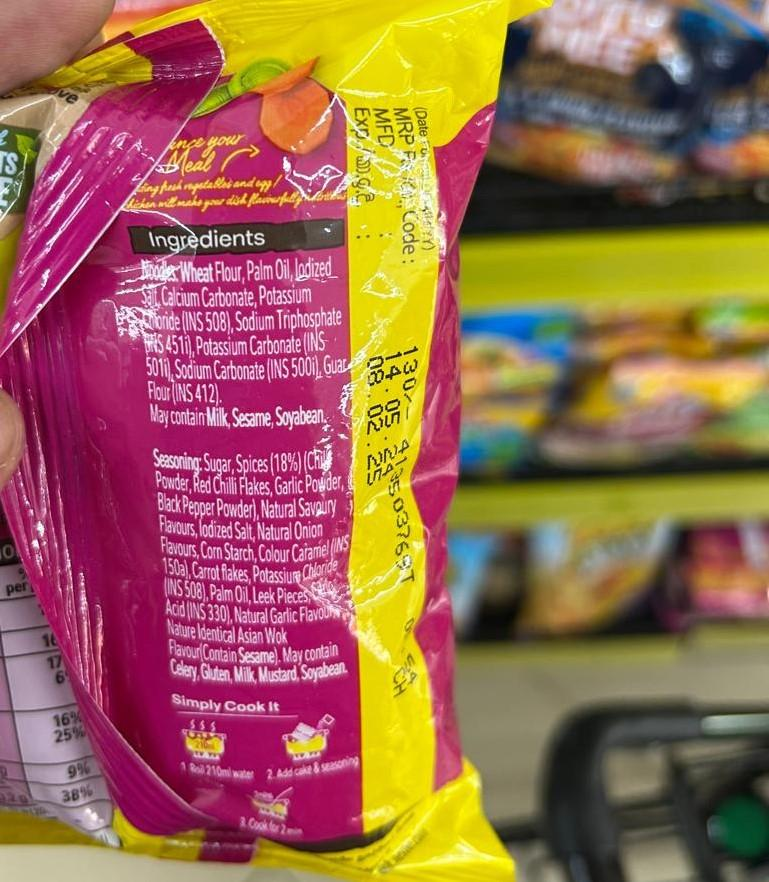ingredients: (115, 170, 427, 459)
